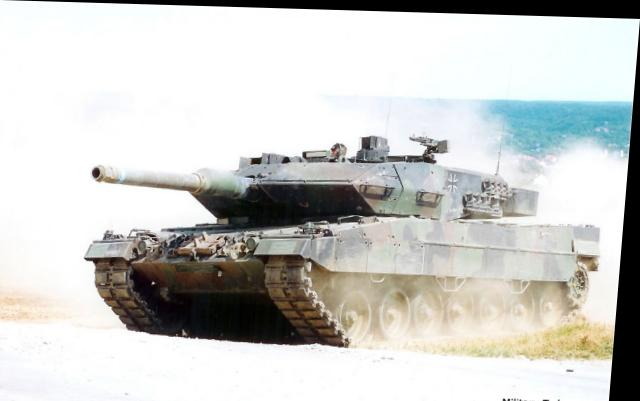tank: (123, 135, 615, 356)
